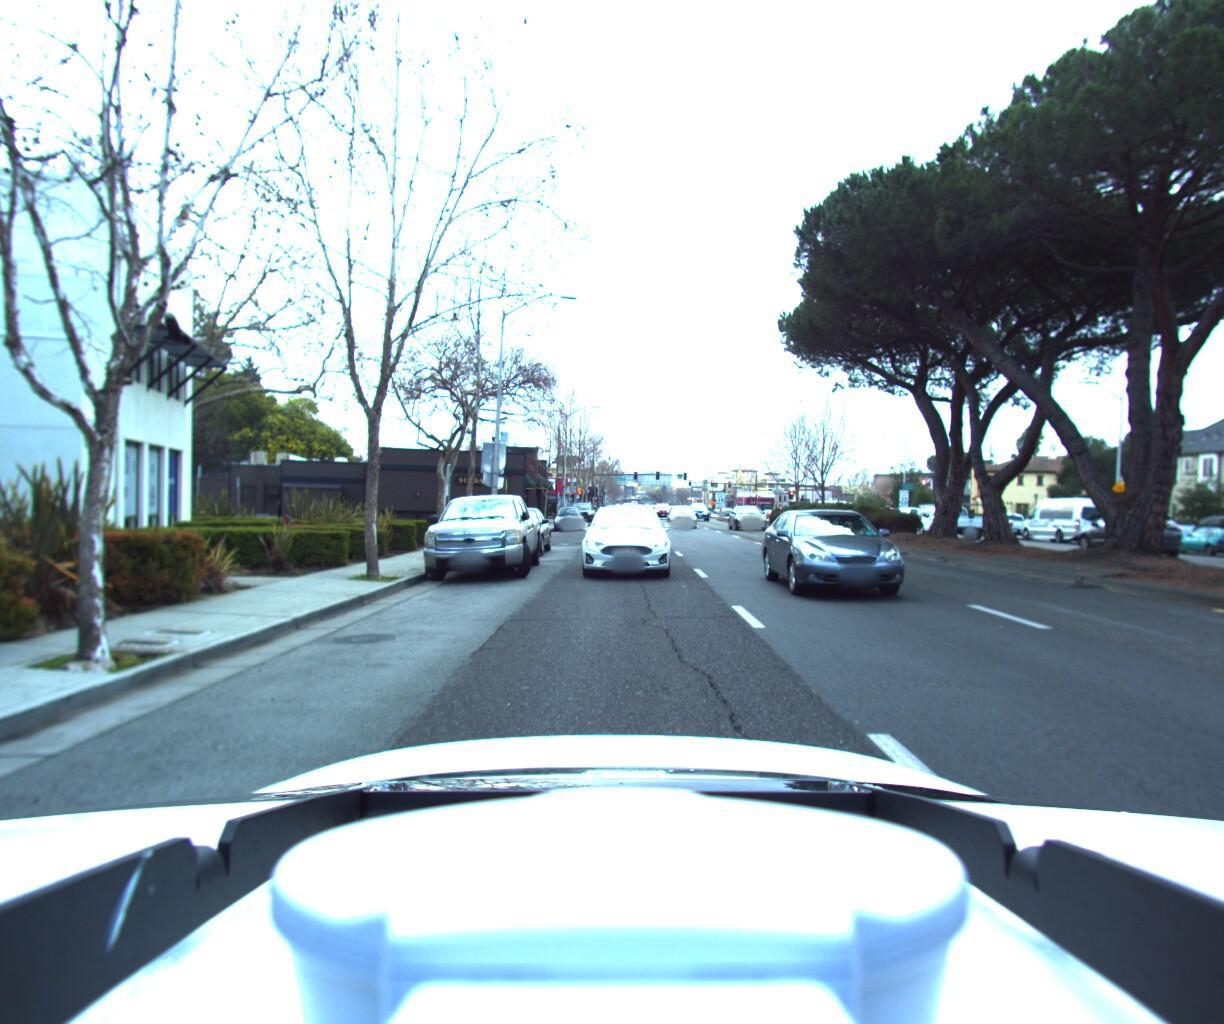car: (766, 506, 959, 619), (410, 492, 546, 588), (574, 501, 674, 584), (1009, 492, 1116, 547), (1082, 507, 1202, 554), (1060, 510, 1171, 558), (477, 505, 551, 562), (908, 498, 982, 538), (1167, 513, 1224, 558), (971, 509, 1036, 541), (665, 504, 700, 530), (550, 506, 582, 532), (566, 501, 594, 525), (651, 501, 673, 519)
